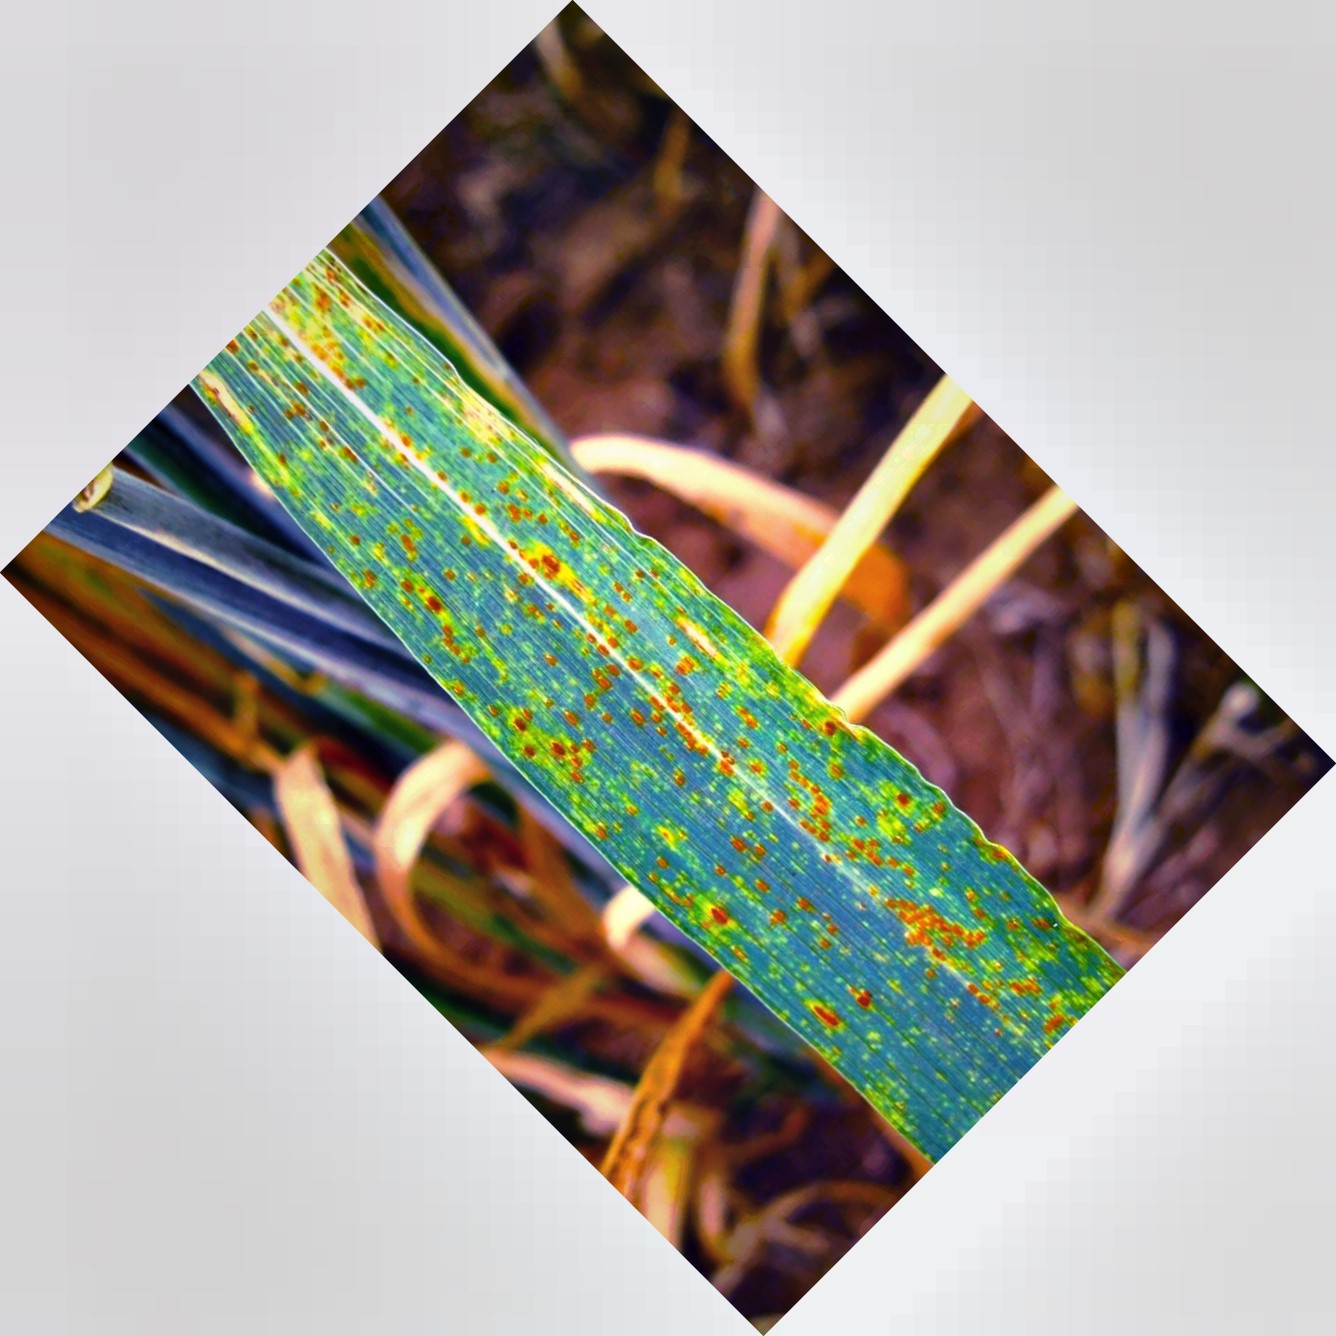Leaf Rust: (352, 449, 971, 1035)
